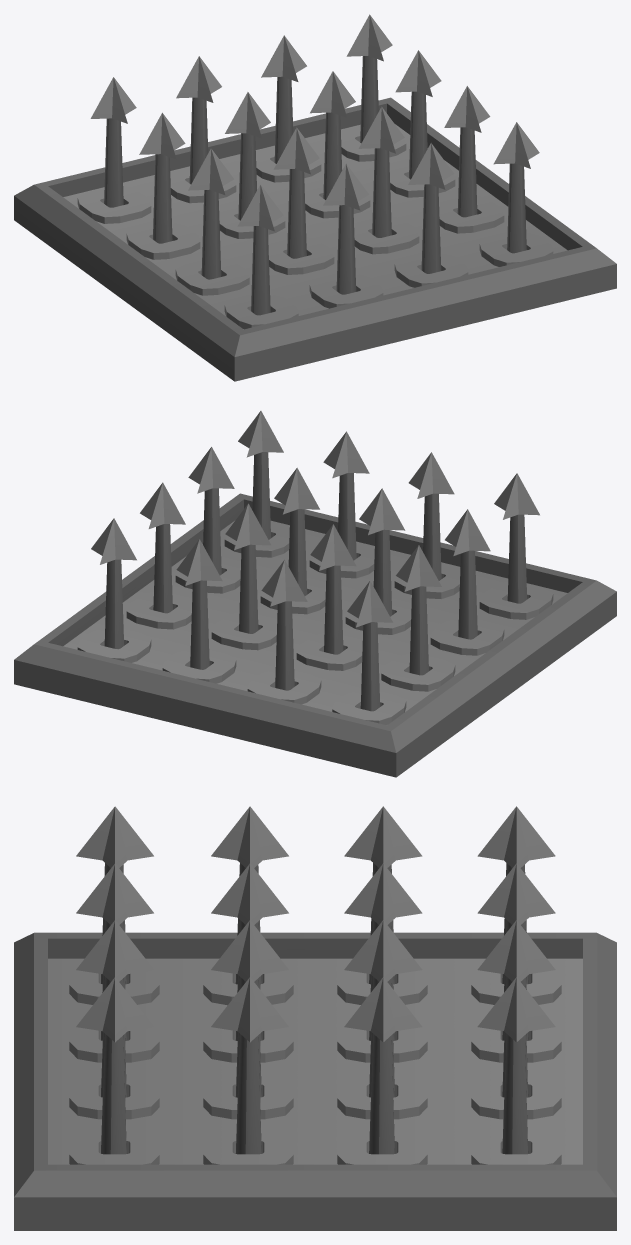
File: Ground_Thorn_Trap_5.fbx
The picture shows the model from 3 angles, top to bottom: view 1: azimuth 30°, elevation 25°; view 2: azimuth 150°, elevation 25°; view 3: azimuth 270°, elevation 25°; orthographic projection. The views are drawn at different scales.
Visible parts, largest first — view 1: Ground_Thorn_Trap_5, Ground_Thorn_Trap_5_Thorns; view 2: Ground_Thorn_Trap_5, Ground_Thorn_Trap_5_Thorns; view 3: Ground_Thorn_Trap_5, Ground_Thorn_Trap_5_Thorns.
Part boxes in pixels (<box>): Ground_Thorn_Trap_5: <box>14,97,616,381</box>; Ground_Thorn_Trap_5_Thorns: <box>90,14,539,315</box>; Ground_Thorn_Trap_5: <box>14,493,616,777</box>; Ground_Thorn_Trap_5_Thorns: <box>91,411,539,711</box>; Ground_Thorn_Trap_5: <box>14,932,616,1230</box>; Ground_Thorn_Trap_5_Thorns: <box>76,806,555,1154</box>.
Bounding box in the file's own units: 80.6 × 31.23 × 80.6.
Materials: 1 (1 with a texture image).
